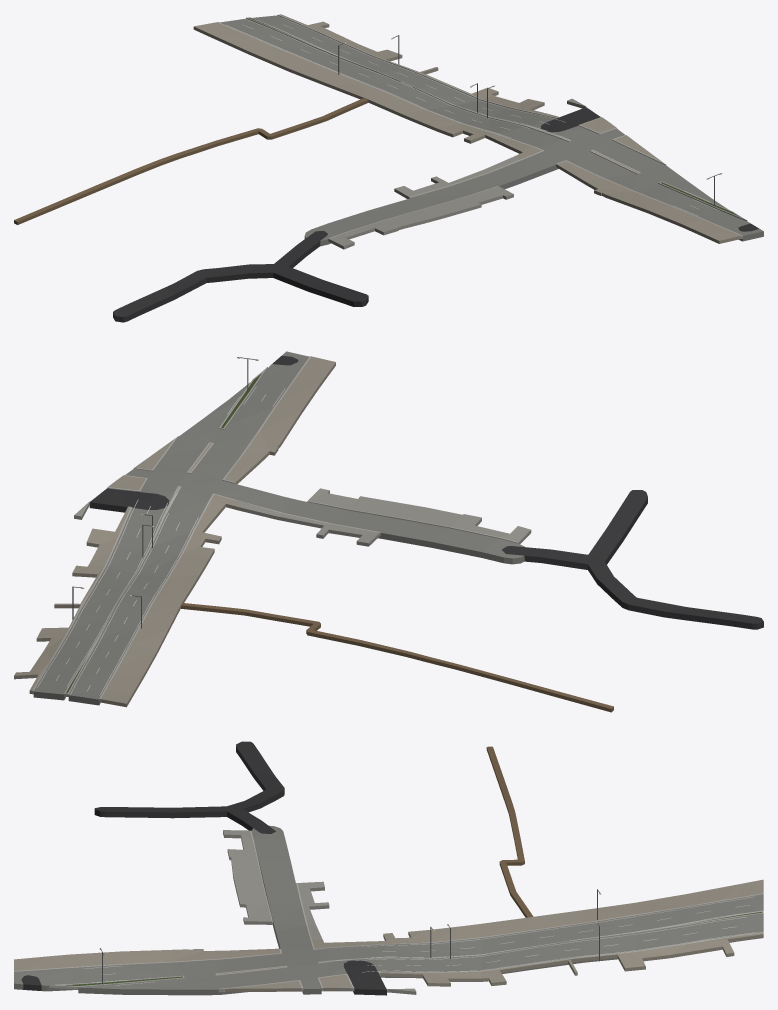
The model's file is 18-218883-118928.9b6efc6b.glb.
3 views of the same model, one above another, from view 1: azimuth 30°, elevation 25°; view 2: azimuth 150°, elevation 25°; view 3: azimuth 270°, elevation 25° (orthographic). The views are drawn at different scales.
Size of the model in its own units: 127 by 14.53 by 146.
